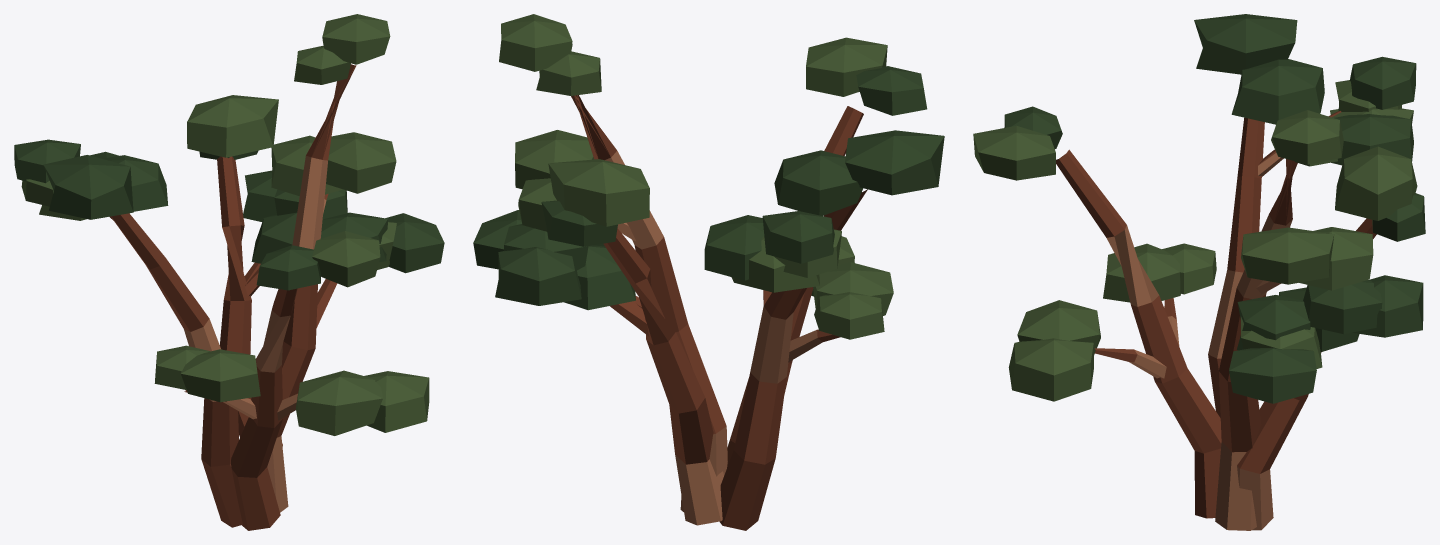
The model's file is pch_quenua_b.glb.
3 views of the same model, side by side, from view 1: azimuth 30°, elevation 25°; view 2: azimuth 150°, elevation 25°; view 3: azimuth 270°, elevation 25° (orthographic). The views are drawn at different scales.
Visible parts, largest first — view 1: pch_quenua_b; view 2: pch_quenua_b; view 3: pch_quenua_b.
Boxes of the visible parts, x1,y1,x2,y2 form: pch_quenua_b: (14, 14, 444, 530); pch_quenua_b: (473, 14, 944, 530); pch_quenua_b: (973, 14, 1425, 530).
Bounding box in the file's own units: 3.74 × 3.88 × 3.34.
